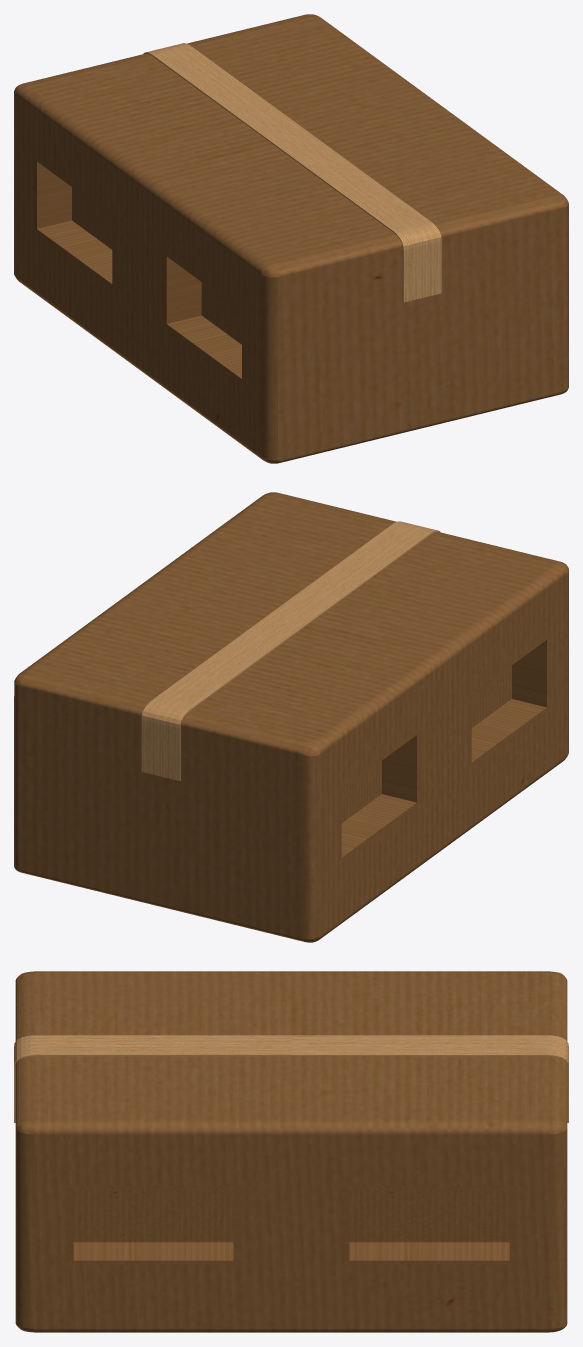
File: Package2.fbx
3 renders of one model, top to bottom at view 1: azimuth 30°, elevation 25°; view 2: azimuth 150°, elevation 25°; view 3: azimuth 270°, elevation 25°, orthographic. The views are drawn at different scales.
Parts seen in each view (by area): view 1: Package, PackageTape, PackageSupport_1, PackageSupport_3; view 2: Package, PackageTape, PackageSupport_1, PackageSupport_3; view 3: Package, PackageSupport_2, PackageSupport_4, PackageTape.
Boxes of the visible parts, x1=… form: Package: x1=14, y1=14, x2=568, y2=463; PackageTape: x1=143, y1=43, x2=441, y2=302; PackageSupport_1: x1=33, y1=155, x2=115, y2=289; PackageSupport_3: x1=163, y1=250, x2=245, y2=384; Package: x1=14, y1=492, x2=568, y2=942; PackageTape: x1=141, y1=521, x2=439, y2=780; PackageSupport_1: x1=338, y1=729, x2=420, y2=863; PackageSupport_3: x1=468, y1=634, x2=550, y2=768; Package: x1=15, y1=971, x2=567, y2=1332; PackageSupport_2: x1=341, y1=1185, x2=517, y2=1264; PackageSupport_4: x1=65, y1=1185, x2=241, y2=1264; PackageTape: x1=14, y1=1035, x2=568, y2=1122.
Size of the model in its own units: 38.66 by 24.16 by 57.29.
